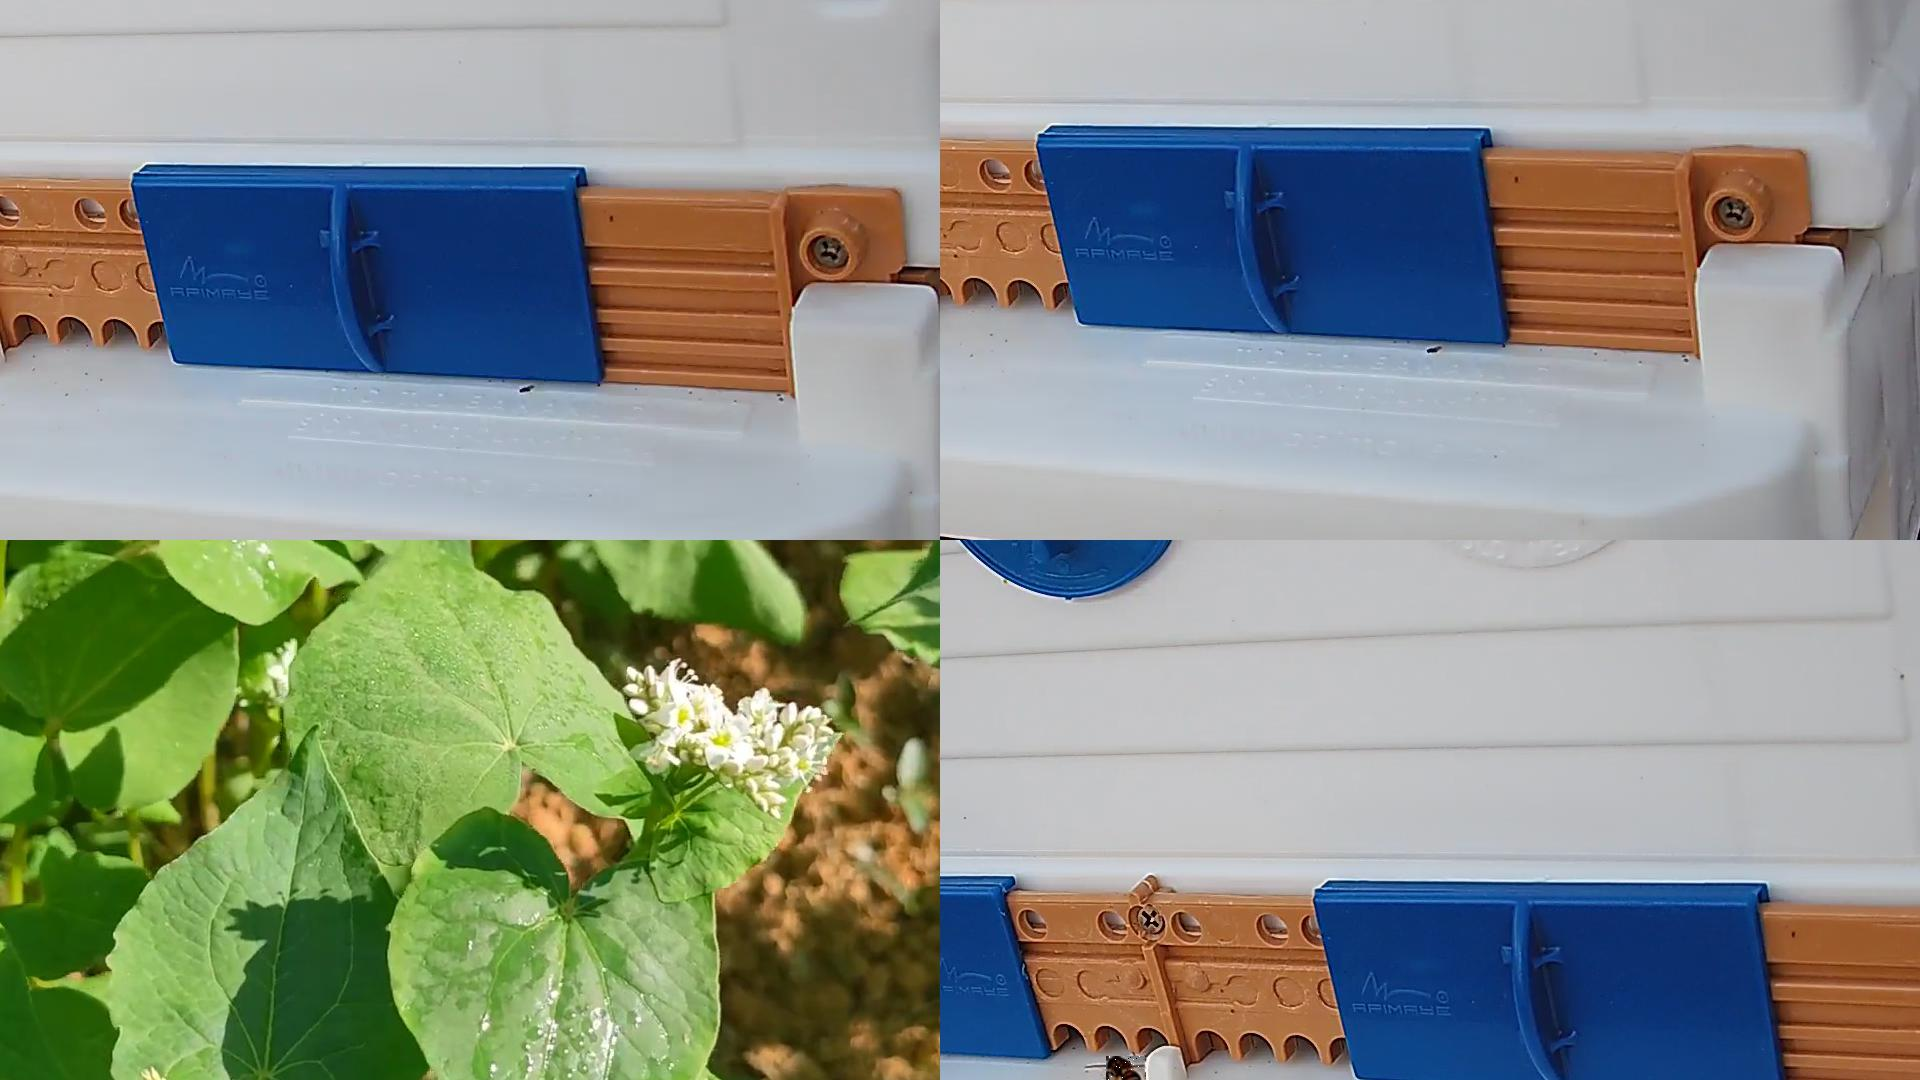pollenbee: (1106, 1056, 1147, 1079)
